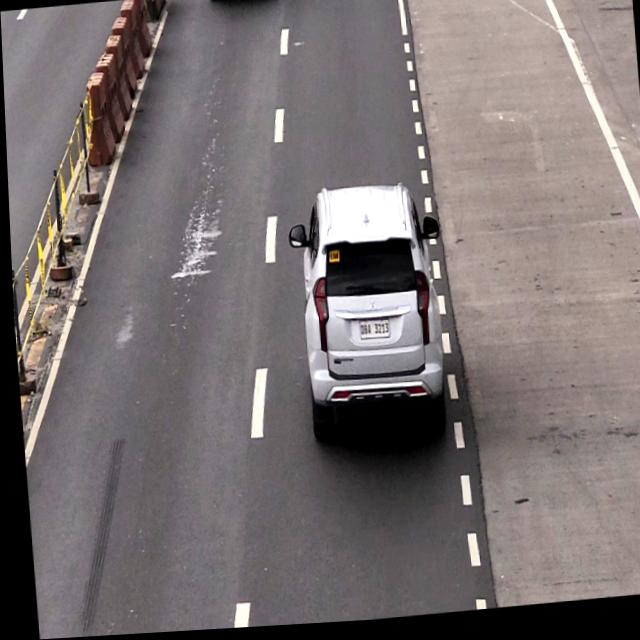Car: (294, 186, 443, 454)
License-Plate: (354, 317, 388, 346)
